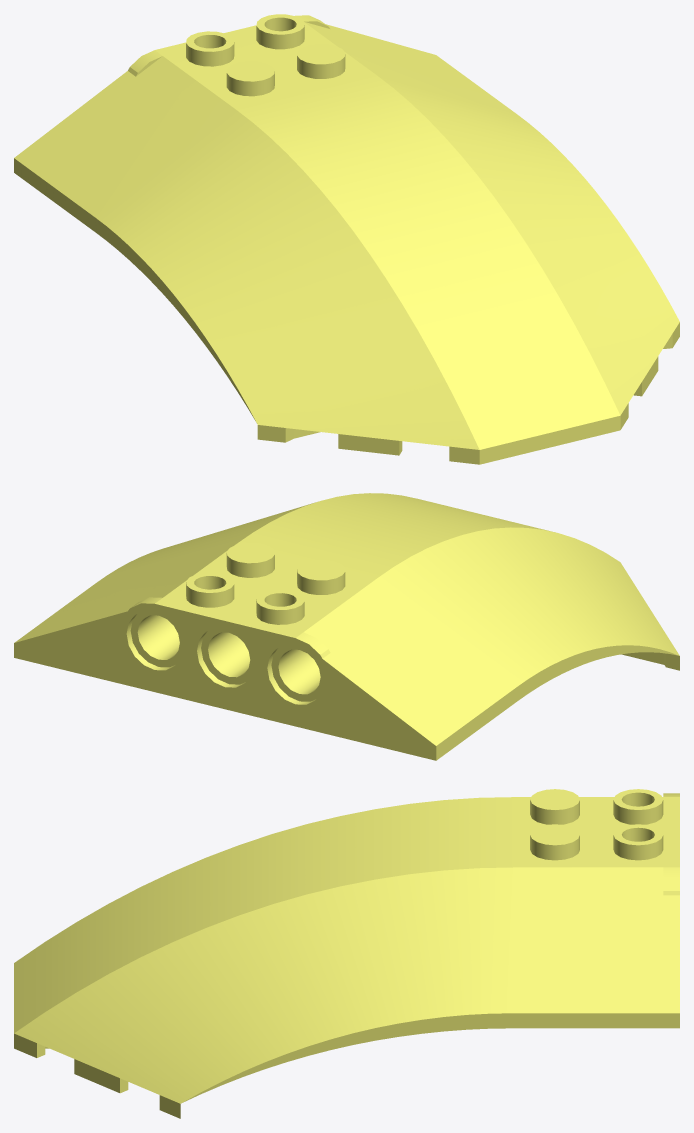
3 views of the same model, one above another, from view 1: azimuth 30°, elevation 25°; view 2: azimuth 150°, elevation 25°; view 3: azimuth 270°, elevation 25° (orthographic). The views are drawn at different scales.
Visible parts, largest first — view 1: 41751.dat; view 2: 41751.dat; view 3: 41751.dat.
Part boxes in pixels (left/top/right/bottom): 41751.dat: left=14, top=14, right=679, bottom=464; 41751.dat: left=14, top=493, right=679, bottom=760; 41751.dat: left=14, top=789, right=679, bottom=1118.
Size of the model in its own units: 0.048 by 0.0208 by 0.064.
